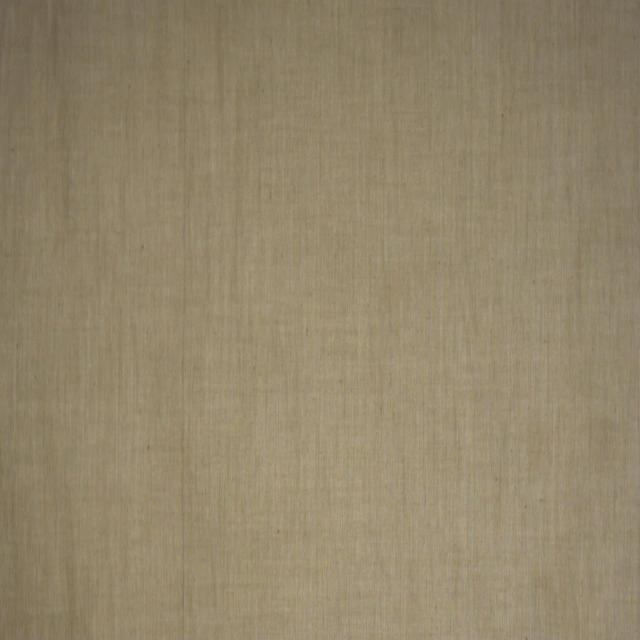dirty: (593, 420, 607, 456)
